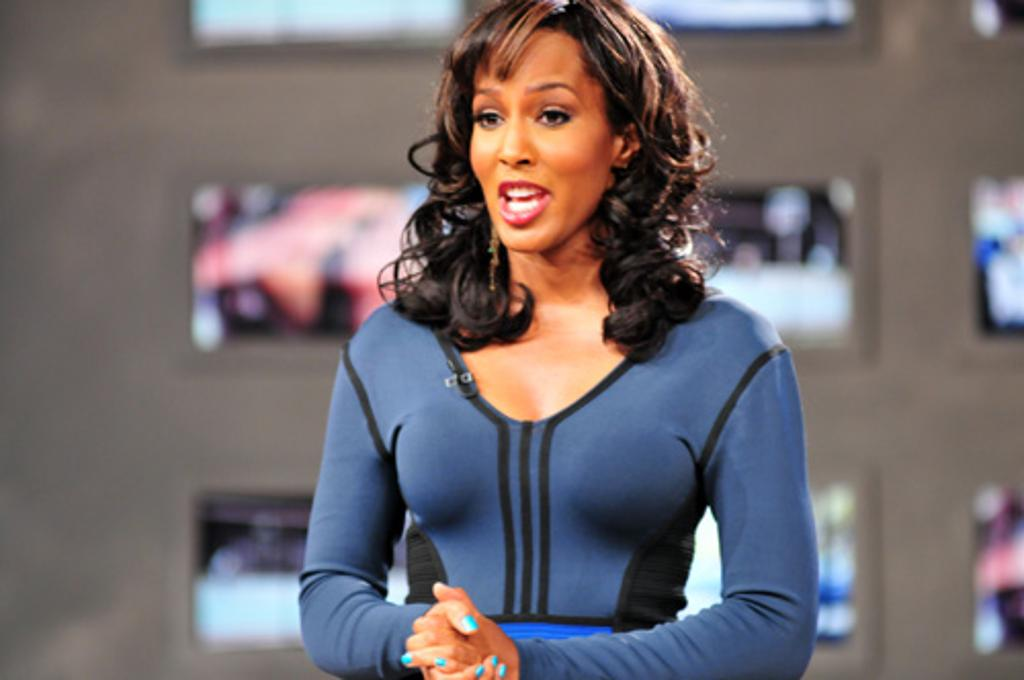face: (466, 40, 602, 244)
